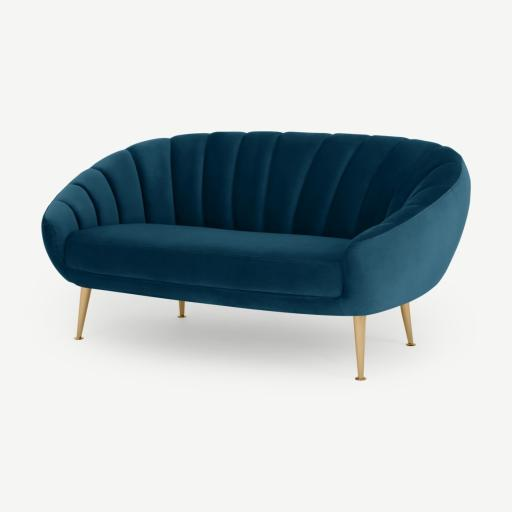back_cushion: (78, 131, 440, 238)
base: (71, 270, 352, 315)
left_arm: (338, 153, 470, 315)
legs: (74, 287, 91, 339), (353, 316, 365, 380), (400, 304, 415, 346), (178, 301, 185, 317)
one-seater: (42, 131, 470, 381)
right_arm: (42, 184, 98, 278)
seat_cushion: (65, 224, 349, 298)
